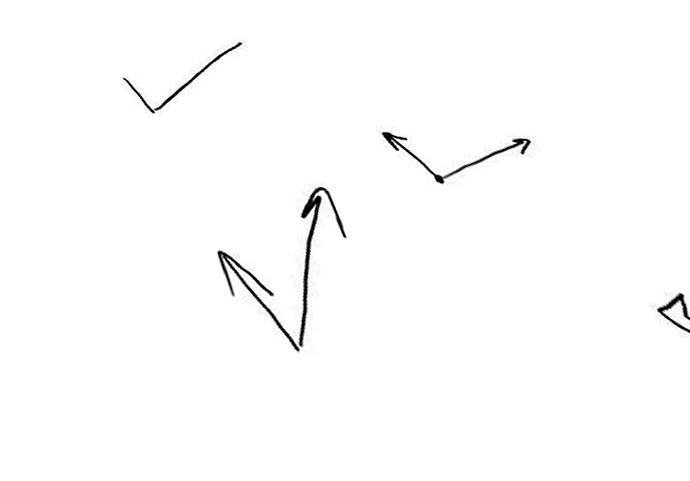arrow: (218, 248, 300, 351), (297, 186, 346, 342), (442, 137, 530, 178), (381, 131, 437, 178)
arrownohead: (156, 41, 242, 109), (122, 77, 156, 113)
